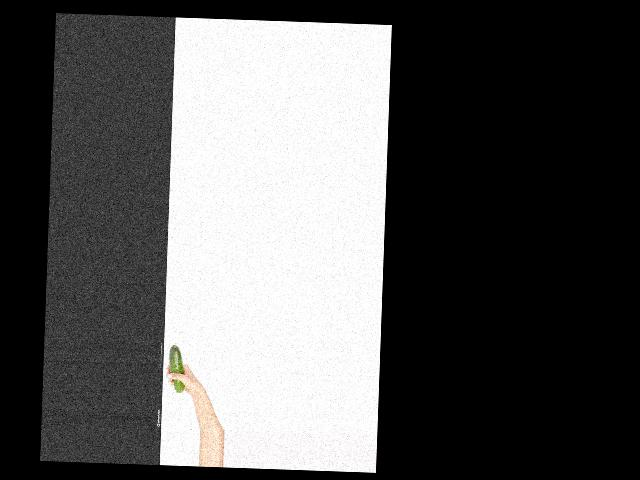cucumber: (167, 344, 185, 392)
